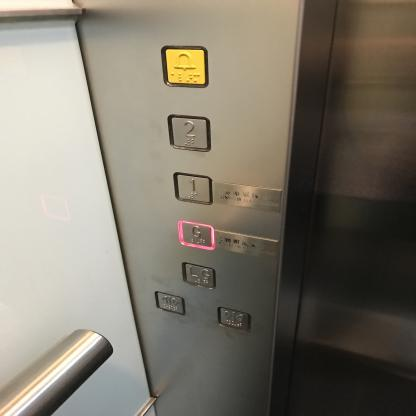1: (172, 170, 214, 206)
2: (166, 112, 212, 153)
G: (176, 218, 217, 252)
LG: (179, 260, 217, 291)
alarm: (158, 44, 210, 89)
close: (216, 306, 252, 334)
open: (153, 290, 187, 316)
